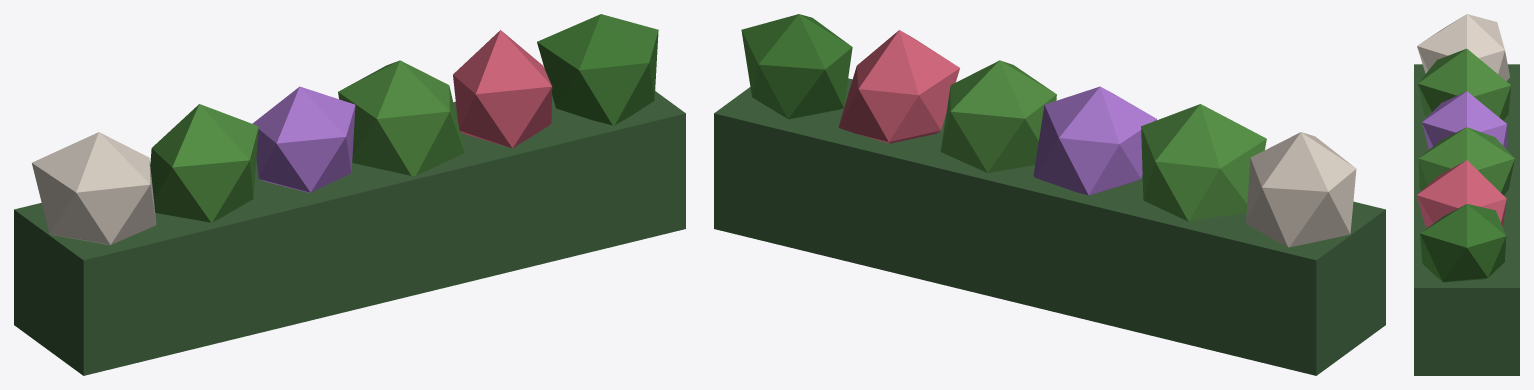
The model's file is FlowerBox.glb.
3 renders of one model, left to right at view 1: azimuth 30°, elevation 25°; view 2: azimuth 150°, elevation 25°; view 3: azimuth 270°, elevation 25°, orthographic. The views are drawn at different scales.
Parts seen in each view (by area): view 1: Body; view 2: Body; view 3: Body.
Part boxes in pixels (x1=…): Body: x1=14, y1=14, x2=685, y2=375; Body: x1=714, y1=14, x2=1385, y2=375; Body: x1=1414, y1=14, x2=1519, y2=375.
Bounding box in the file's own units: 3.04 × 1 × 0.6.
